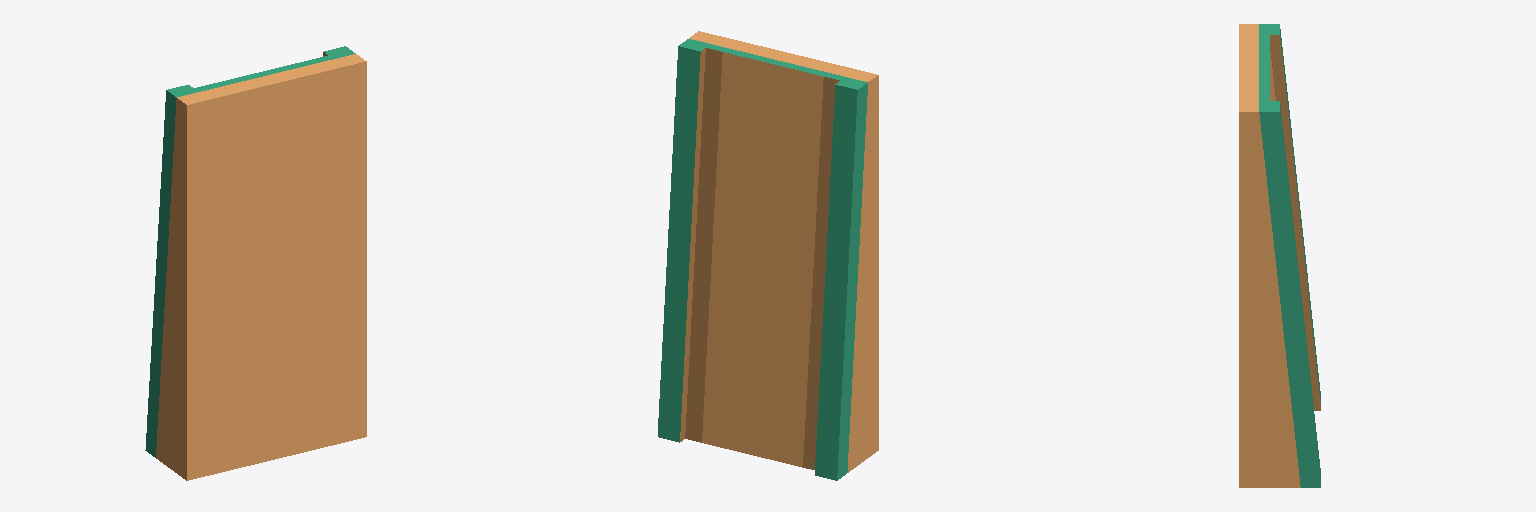
File: tile_straightHillLarge.obj
The picture shows the model from 3 angles: view 1: azimuth 30°, elevation 25°; view 2: azimuth 150°, elevation 25°; view 3: azimuth 270°, elevation 25°; orthographic projection.
Visible parts, largest first — view 1: tile_straightHillLarge; view 2: tile_straightHillLarge; view 3: tile_straightHillLarge.
Boxes of the visible parts, x1,y1,x2,y2 form: tile_straightHillLarge: [145, 46, 366, 480]; tile_straightHillLarge: [658, 31, 878, 480]; tile_straightHillLarge: [1239, 24, 1320, 487].
Size of the model in its own units: 1 by 2 by 0.4.